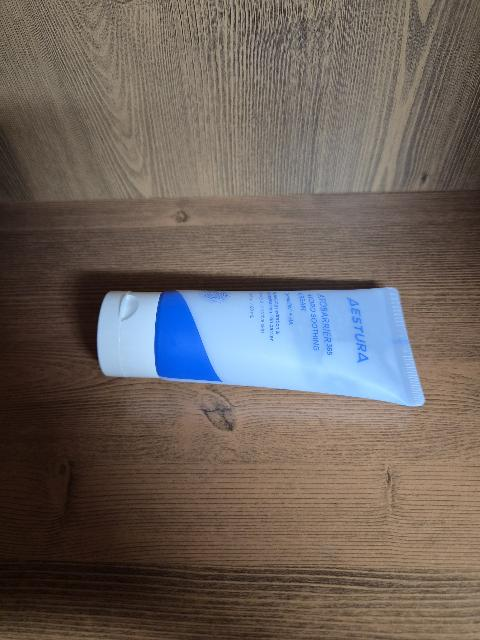handcream: (97, 287, 425, 407)
